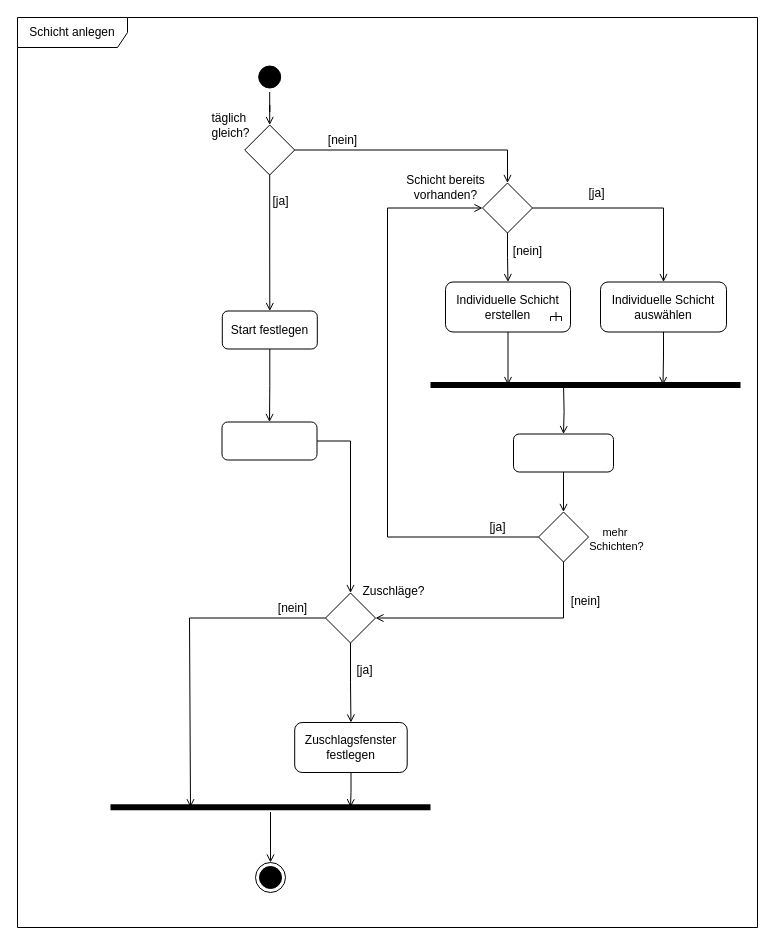
Some shapes in this 775 by 945 pixel diagram are drawn without their labels. Each missing label, with the box of its shape:
Ende festlegen: (221, 421, 317, 460)
Tage auswählen: (512, 433, 614, 472)
